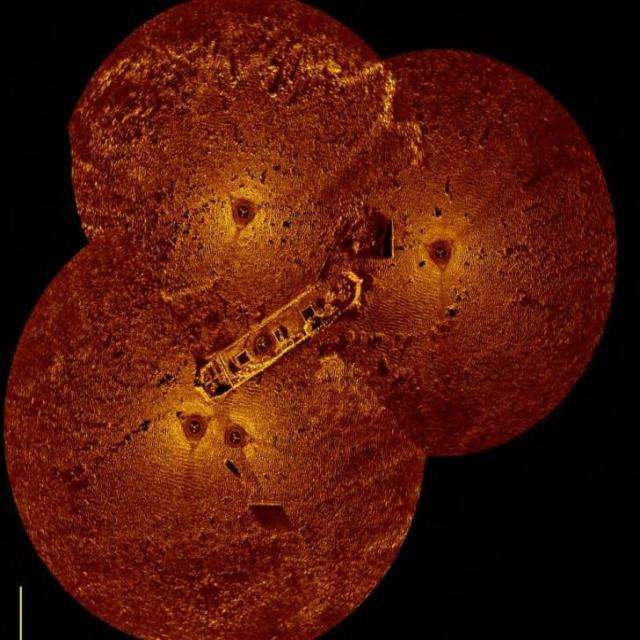shipwreck: (197, 267, 366, 403)
